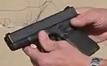gun: (1, 1, 107, 66)
